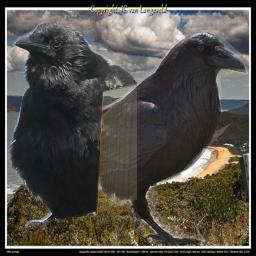Crow: (16, 30, 248, 244), (5, 20, 137, 228)
